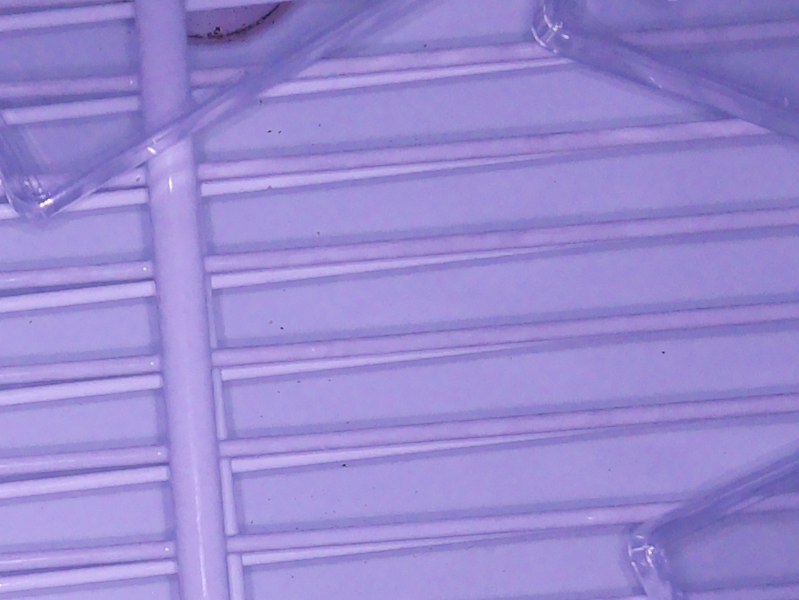plate: (1, 1, 410, 224), (529, 1, 799, 136), (629, 449, 799, 600)
